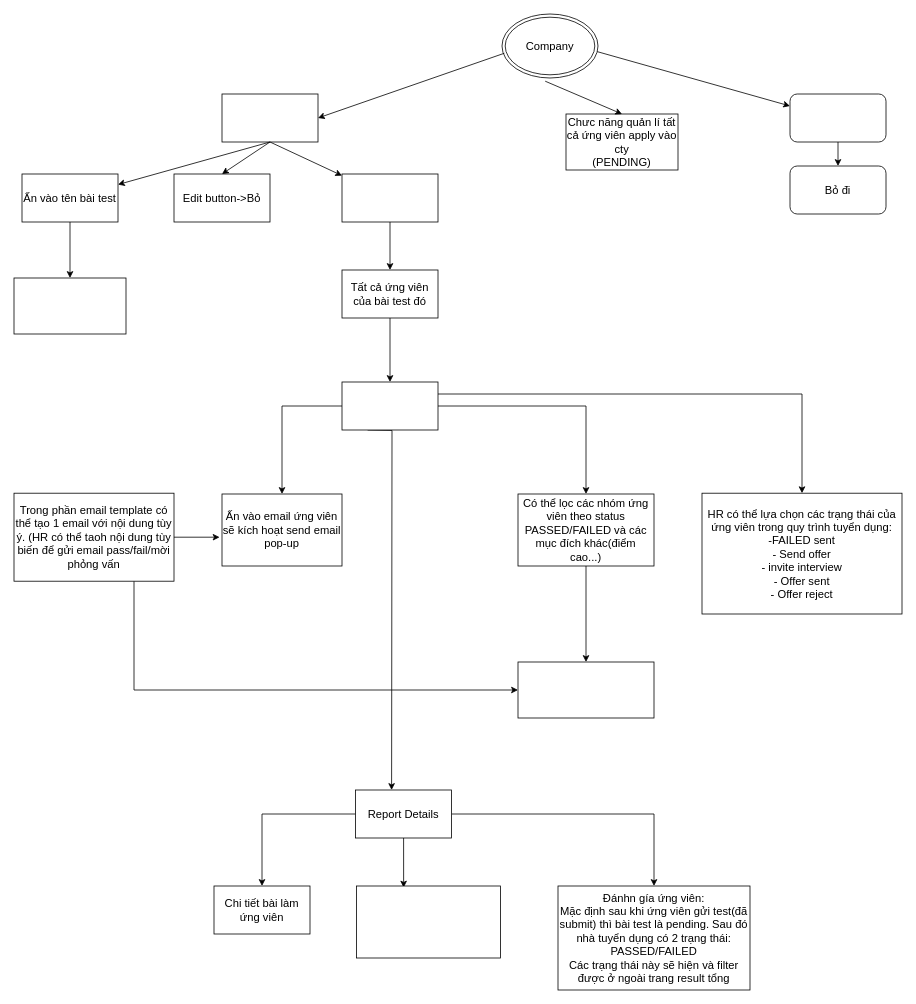
The diagram is 916 pixels wide and 1004 high, and some of its shapes have lost their labels. The shapes that lost their labels are listed below. From the top down, each one's box as (x1, y1, x2, y2) in pixels, then its label:
(221, 93, 318, 142): My Test
(789, 93, 886, 142): Test Result
(341, 173, 438, 222): Report button
(13, 277, 126, 334): Edit bài test: - Số lượng câu hỏi - Duration - Tên bài test
(341, 381, 438, 430): Vào trang test report
(517, 661, 654, 718): HR gửi email cho nhóm đã filter
(356, 885, 500, 958): Lọc bài làm ứng viên theo dạng câu hỏi: essay, multiple, code->để dễ chấm essay
